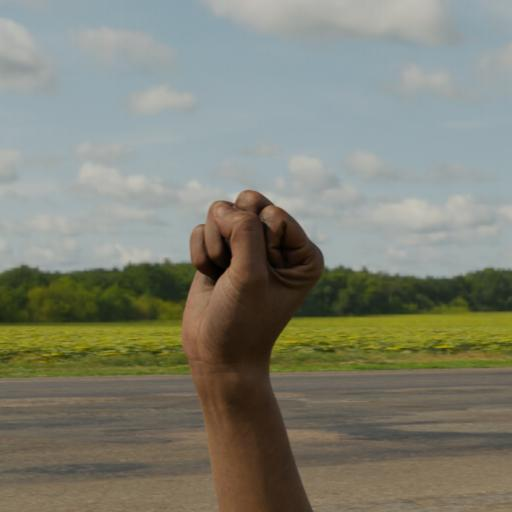S: (174, 180, 330, 388)
